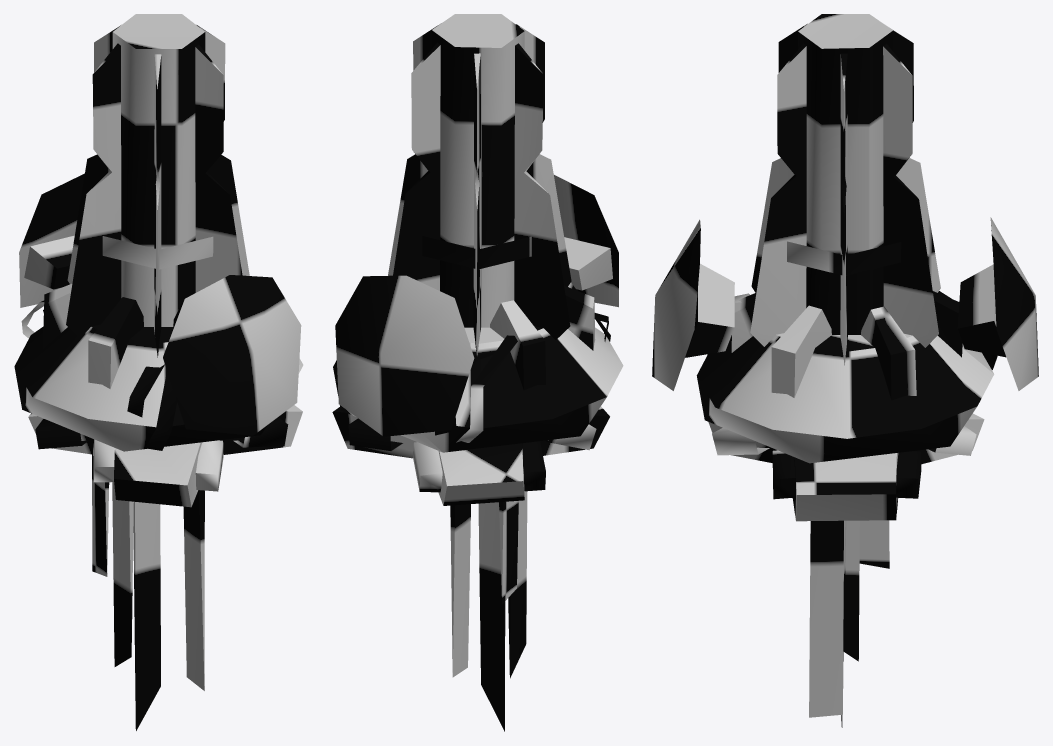
File: building-hq-turret-large.obj
3 renders of one model, left to right at view 1: azimuth 30°, elevation 25°; view 2: azimuth 150°, elevation 25°; view 3: azimuth 270°, elevation 25°, orthographic. The views are drawn at different scales.
Visible parts, largest first — view 1: building_HQ_turret_l_EIC; view 2: building_HQ_turret_l_EIC; view 3: building_HQ_turret_l_EIC.
Boxes of the visible parts, box(x1,y1,x2,y2) form: building_HQ_turret_l_EIC: box(14, 14, 303, 730); building_HQ_turret_l_EIC: box(332, 14, 623, 731); building_HQ_turret_l_EIC: box(652, 14, 1038, 727).
Size of the model in its own units: 51.06 by 133 by 65.22.
Materials: 1 (1 with a texture image).
